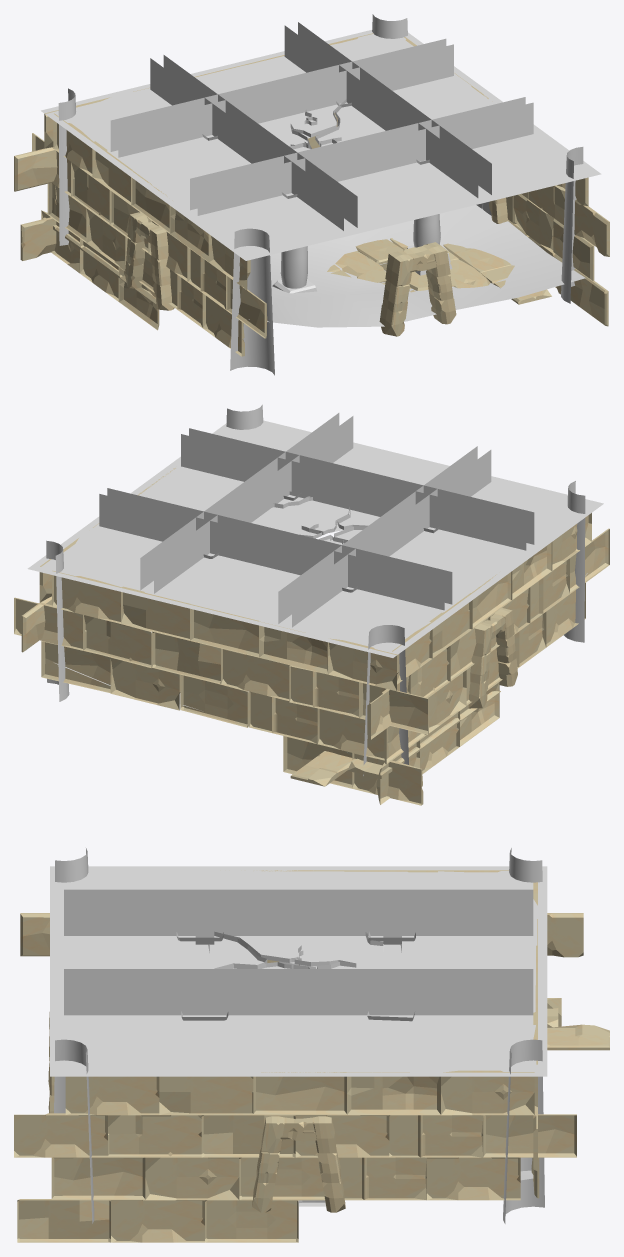
3 views of the same model, one above another, from view 1: azimuth 30°, elevation 25°; view 2: azimuth 150°, elevation 25°; view 3: azimuth 270°, elevation 25° (orthographic). The views are drawn at different scales.
Parts seen in each view (by area): view 1: beams, Plane.072, Plane, artch, pillar.003, artch.002, Plane.074, pillar.002, Plane.031, pillar, Plane.053, Plane.052 (+31 smaller); view 2: beams, Plane.072, artch.002, Plane.074, Plane.002, Plane.003, Plane.005, Plane.028, Plane.001, Plane.006, Plane.004, Plane.027 (+37 smaller); view 3: Plane.072, beams, artch.001, Plane.036, Plane.037, Plane.044, Plane.045, Plane.042, Plane.065, Plane.064, Plane.043, Plane.046 (+19 smaller).
Boxes of the visible parts, x1=… form: beams: x1=110, y1=22, x2=533, y2=230; Plane.072: x1=41, y1=30, x2=601, y2=260; Plane: x1=249, y1=205, x2=585, y2=327; artch: x1=379, y1=242, x2=456, y2=336; pillar.003: x1=230, y1=228, x2=274, y2=375; artch.002: x1=124, y1=212, x2=174, y2=310; Plane.074: x1=258, y1=98, x2=382, y2=152; pillar.002: x1=561, y1=147, x2=583, y2=303; Plane.031: x1=14, y1=147, x2=57, y2=191; pillar: x1=58, y1=88, x2=75, y2=245; Plane.053: x1=71, y1=162, x2=111, y2=224; Plane.052: x1=86, y1=208, x2=126, y2=271; beams: x1=99, y1=413, x2=534, y2=627; Plane.072: x1=27, y1=420, x2=603, y2=657; artch.002: x1=468, y1=608, x2=517, y2=708; Plane.074: x1=248, y1=491, x2=383, y2=544; Plane.002: x1=248, y1=691, x2=319, y2=744; Plane.003: x1=152, y1=631, x2=222, y2=684; Plane.005: x1=110, y1=657, x2=181, y2=710; Plane.028: x1=289, y1=665, x2=358, y2=716; Plane.001: x1=180, y1=674, x2=248, y2=727; Plane.006: x1=83, y1=615, x2=151, y2=667; Plane.004: x1=221, y1=648, x2=290, y2=699; Plane.027: x1=41, y1=641, x2=111, y2=693; Plane.072: x1=50, y1=866, x2=547, y2=1076; beams: x1=64, y1=889, x2=533, y2=1015; artch.001: x1=252, y1=1116, x2=345, y2=1212; Plane.036: x1=145, y1=1156, x2=239, y2=1200; Plane.037: x1=108, y1=1113, x2=201, y2=1157; Plane.044: x1=389, y1=1115, x2=483, y2=1157; Plane.045: x1=427, y1=1157, x2=520, y2=1200; Plane.042: x1=14, y1=1113, x2=107, y2=1157; Plane.065: x1=111, y1=1200, x2=204, y2=1242; Plane.064: x1=17, y1=1199, x2=110, y2=1242; Plane.043: x1=51, y1=1157, x2=145, y2=1200; Plane.046: x1=441, y1=1070, x2=534, y2=1115.
Size of the model in its own units: 1200 by 490 by 1270.
Materials: 2 (1 with a texture image).
